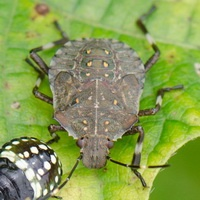insect: (26, 19, 182, 188), (0, 137, 61, 199)
